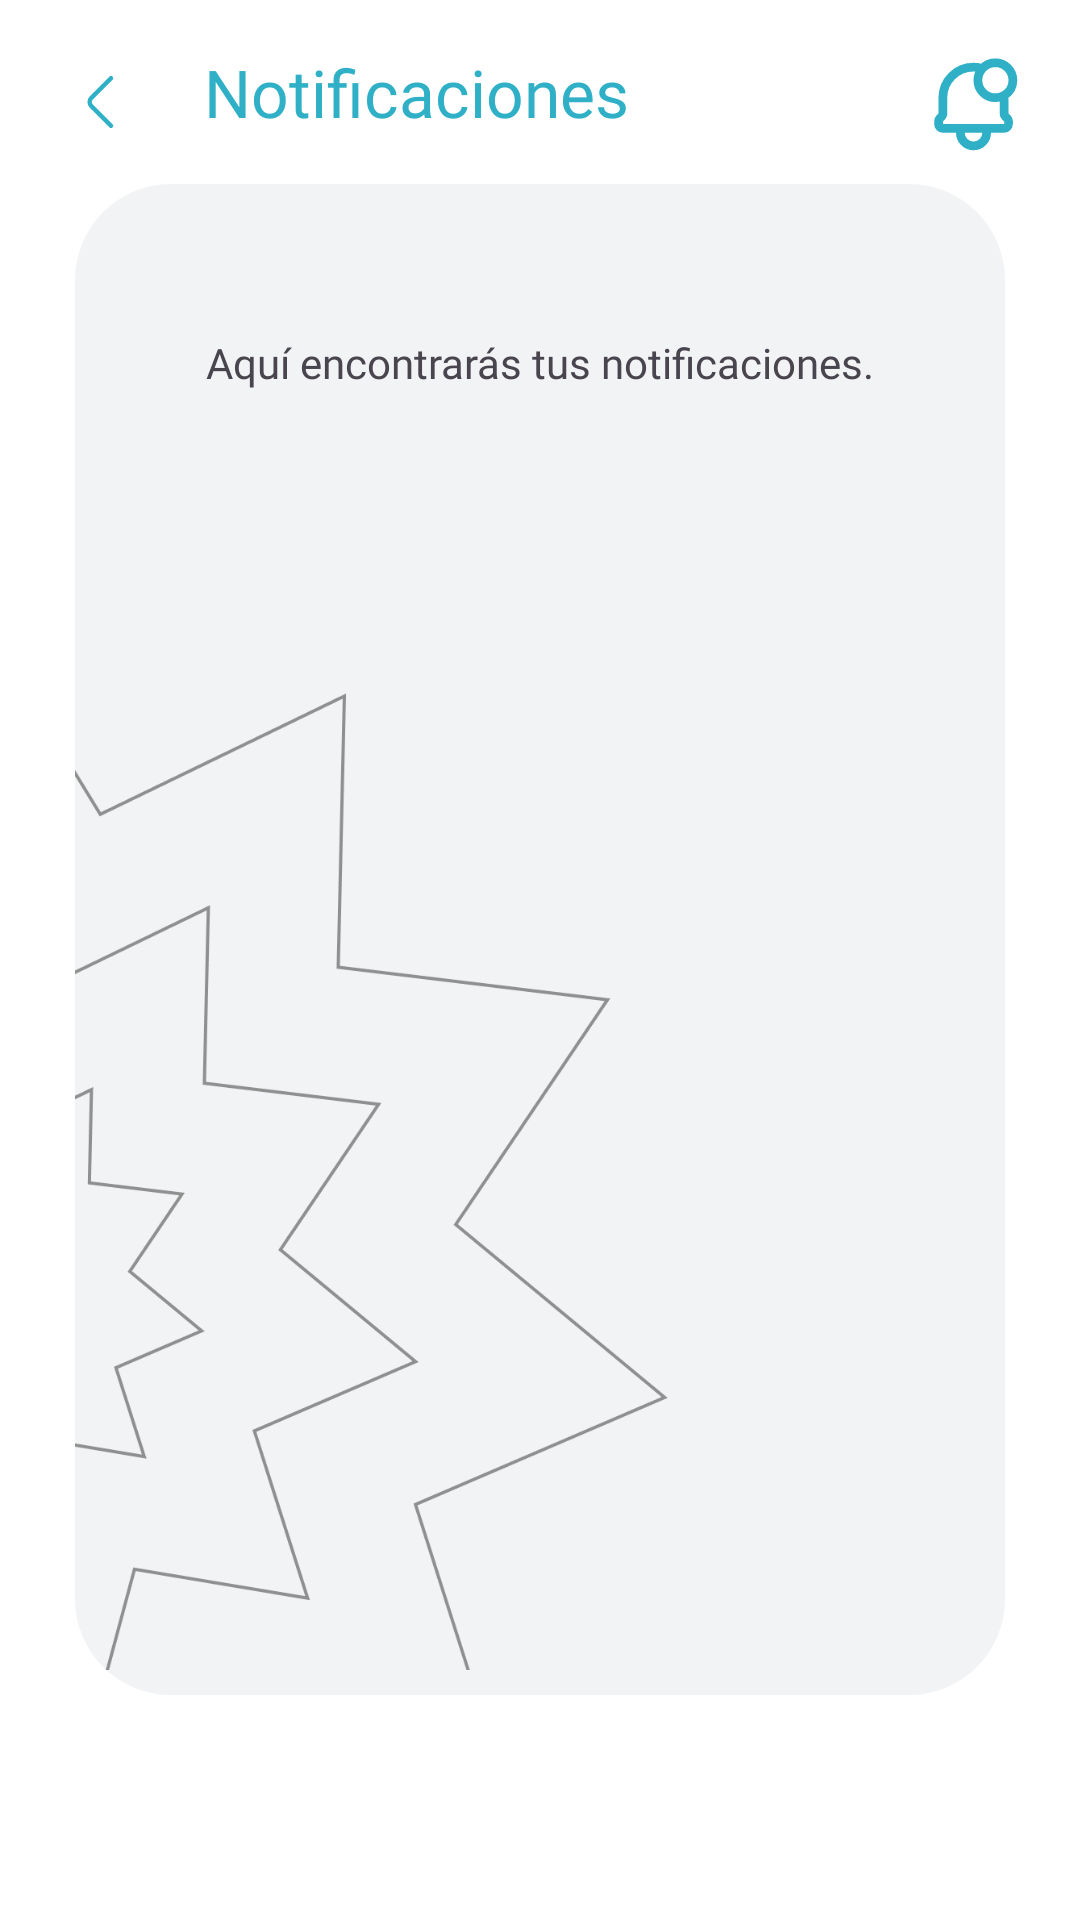

Locate icon controls on the screen. Image size 1080×1920, boxes as [left=x1, top=y1, right=x2, bottom=y2].
Botón para regresar: [left=87, top=76, right=114, bottom=128]
campana: [left=934, top=58, right=1018, bottom=151]
